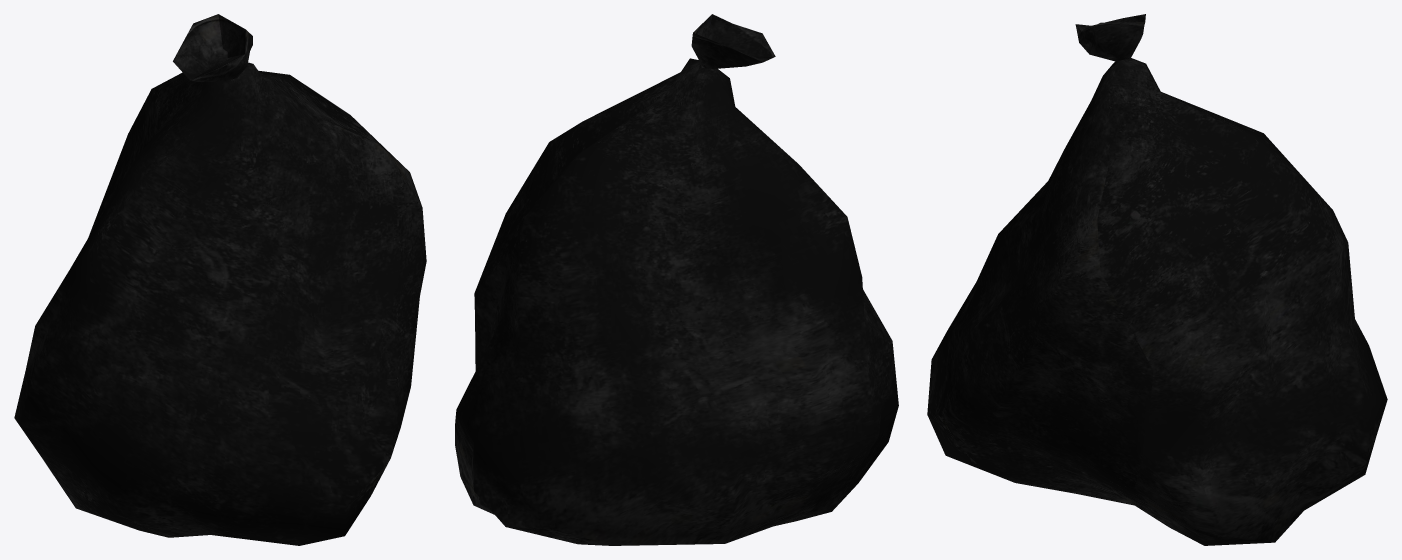
The model's file is SM_Trash_Bag_01.glb.
The picture shows the model from 3 angles, left to right: view 1: azimuth 30°, elevation 25°; view 2: azimuth 150°, elevation 25°; view 3: azimuth 270°, elevation 25°; orthographic projection. The views are drawn at different scales.
Parts seen in each view (by area): view 1: SM_Trash_Bag_01; view 2: SM_Trash_Bag_01; view 3: SM_Trash_Bag_01.
Part boxes in pixels (left/top/right/bottom): SM_Trash_Bag_01: left=14, top=14, right=426, bottom=545; SM_Trash_Bag_01: left=455, top=14, right=898, bottom=545; SM_Trash_Bag_01: left=927, top=14, right=1387, bottom=545.
Bounding box in the file's own units: 0.6364 × 0.7297 × 0.6745.
1 material, 1 textured.
